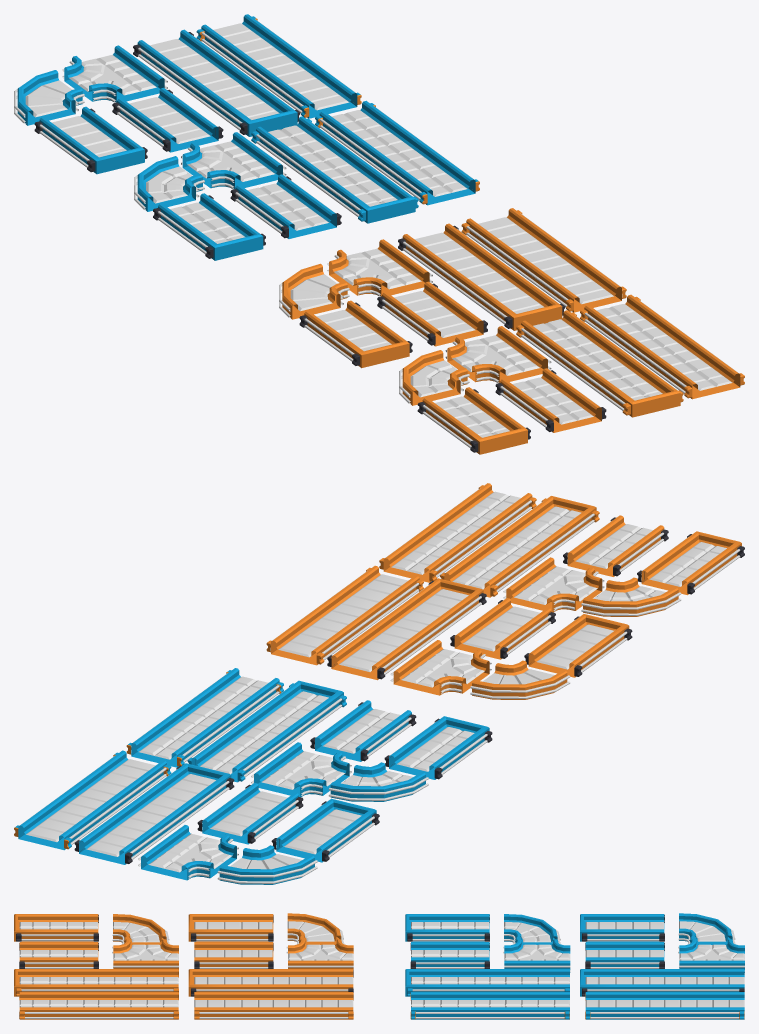
The model's file is Tapis Resto Texturés.fbx.
3 renders of one model, top to bottom at view 1: azimuth 30°, elevation 25°; view 2: azimuth 150°, elevation 25°; view 3: azimuth 270°, elevation 25°, orthographic. The views are drawn at different scales.
Parts seen in each view (by area): view 1: Treadmill_split_End_1x6, Treadmill_split_End_1x4, Treadmill_End_1x4, Treadmill_End_1x5, Treadmill_split_1x5, Treadmill_split_1x4, Treadmill_1x6, Treadmill_1x4, Treadmill_End_1x6, Treadmill_End_1x2, Treadmill_split_End_1x5, Treadmill_split_End_1x2 (+12 smaller); view 2: Treadmill_End_1x4, Treadmill_End_1x5, Treadmill_split_End_1x4, Treadmill_split_End_1x6, Treadmill_1x6, Treadmill_1x4, Treadmill_split_1x4, Treadmill_split_1x5, Treadmill_split_End_1x2, Treadmill_split_End_1x5, Treadmill_End_1x2, Treadmill_End_1x6 (+12 smaller); view 3: Treadmill_split_1x4, Treadmill_1x4, Treadmill_1x6, Treadmill_split_1x5, Treadmill_End_1x4, Treadmill_split_End_1x4, Treadmill_End_1x5, Treadmill_split_End_1x6, Treadmill_End_1x2, Treadmill_split_End_1x2, Treadmill_End_1x6, Treadmill_split_End_1x5 (+12 smaller).
Boxes of the visible parts, <box> form: Treadmill_split_End_1x6: <box>251,116,418,223</box>; Treadmill_split_End_1x4: <box>516,310,683,417</box>; Treadmill_End_1x4: <box>398,223,565,330</box>; Treadmill_End_1x5: <box>133,29,300,136</box>; Treadmill_split_1x5: <box>315,100,479,205</box>; Treadmill_split_1x4: <box>580,294,744,399</box>; Treadmill_1x6: <box>196,14,361,118</box>; Treadmill_1x4: <box>461,208,626,312</box>; Treadmill_End_1x6: <box>34,106,147,174</box>; Treadmill_End_1x2: <box>299,300,412,368</box>; Treadmill_split_End_1x5: <box>153,193,265,260</box>; Treadmill_split_End_1x2: <box>417,387,530,454</box>; Treadmill_End_1x4: <box>327,578,486,680</box>; Treadmill_End_1x5: <box>74,763,234,864</box>; Treadmill_split_End_1x4: <box>440,496,599,597</box>; Treadmill_split_End_1x6: <box>187,680,346,782</box>; Treadmill_1x6: <box>14,750,171,850</box>; Treadmill_1x4: <box>266,565,423,665</box>; Treadmill_split_1x4: <box>379,483,536,582</box>; Treadmill_split_1x5: <box>126,668,283,767</box>; Treadmill_split_End_1x2: <box>637,531,744,595</box>; Treadmill_split_End_1x5: <box>384,716,492,779</box>; Treadmill_End_1x2: <box>524,614,632,677</box>; Treadmill_End_1x6: <box>271,798,379,862</box>; Treadmill_split_1x4: <box>19,992,178,1019</box>; Treadmill_1x4: <box>194,992,353,1019</box>; Treadmill_1x6: <box>585,992,744,1019</box>; Treadmill_split_1x5: <box>410,992,569,1019</box>; Treadmill_End_1x4: <box>188,969,353,996</box>; Treadmill_split_End_1x4: <box>14,969,178,996</box>; Treadmill_End_1x5: <box>580,969,744,996</box>; Treadmill_split_End_1x6: <box>405,969,569,996</box>; Treadmill_End_1x2: <box>188,914,273,941</box>; Treadmill_split_End_1x2: <box>14,914,98,941</box>; Treadmill_End_1x6: <box>580,914,664,941</box>; Treadmill_split_End_1x5: <box>405,914,489,941</box>.
Size of the model in its own units: 156 by 7.89 by 488.
1 material, 1 textured.
